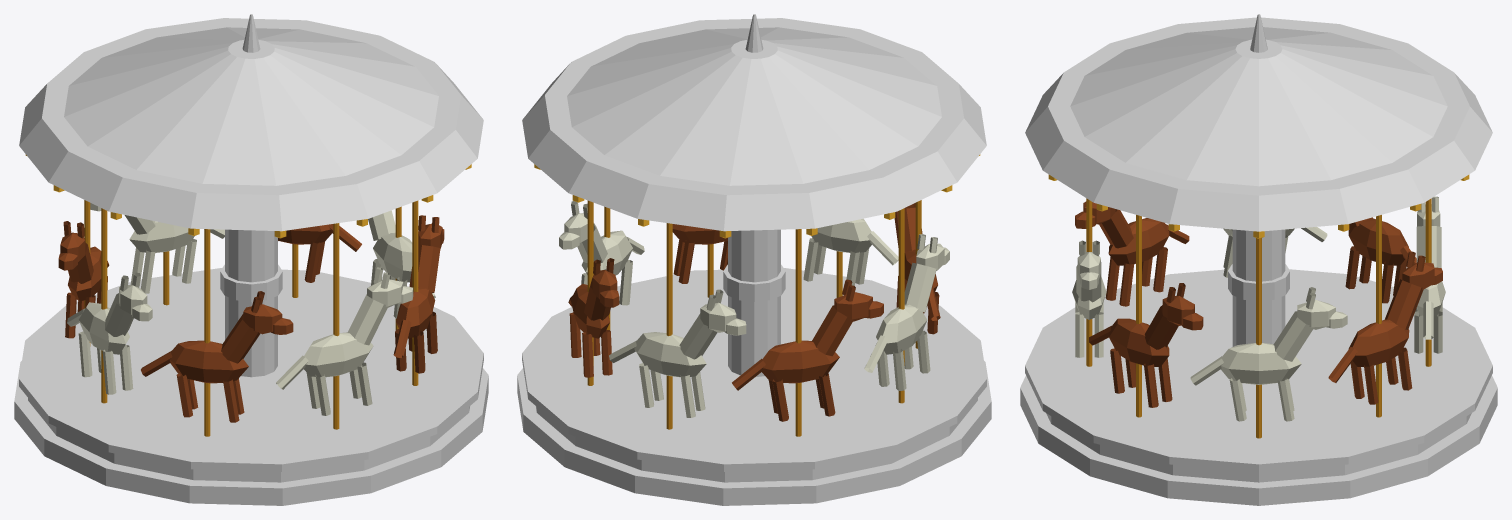
File: LowPolyMerryGoRound.dae
3 views of the same model, side by side, from view 1: azimuth 30°, elevation 25°; view 2: azimuth 150°, elevation 25°; view 3: azimuth 270°, elevation 25° (orthographic).
Visible parts, largest first — view 1: Carousel_Body, Horse_06, Horse_07, Horse_05, Horse_08, Horse_03, Horse_04, Horse_01, Horse_02, Horse_Pole_06, Horse_Pole_07, Horse_Pole_05 (+1 smaller); view 2: Carousel_Body, Horse_04, Horse_03, Horse_05, Horse_02, Horse_07, Horse_01, Horse_08, Horse_06, Horse_Pole_04, Horse_Pole_03, Horse_Pole_05 (+1 smaller); view 3: Carousel_Body, Horse_01, Horse_02, Horse_08, Horse_06, Horse_04, Horse_03, Horse_07, Horse_Pole_08, Horse_Pole_01, Horse_Pole_02, Horse_Pole_07 (+2 smaller).
Boxes of the visible parts, x1,y1,x2,y2 form: Carousel_Body: (14,14,488,505); Horse_06: (141,291,293,422); Horse_07: (276,267,413,415); Horse_05: (67,272,152,394); Horse_08: (393,215,444,373); Horse_03: (90,203,224,293); Horse_04: (58,221,109,338); Horse_01: (368,210,435,318); Horse_02: (278,224,361,282); Horse_Pole_06: (204,229,210,436); Horse_Pole_07: (333,223,339,429); Horse_Pole_05: (101,208,107,403); Carousel_Body: (517,14,991,505); Horse_04: (732,279,883,421); Horse_03: (609,289,746,417); Horse_05: (864,234,949,390); Horse_02: (568,258,619,377); Horse_07: (803,218,898,285); Horse_01: (559,201,644,305); Horse_08: (672,224,727,283); Horse_06: (894,203,940,334); Horse_Pole_04: (795,229,801,436); Horse_Pole_03: (666,223,672,429); Horse_Pole_05: (898,208,904,403); Carousel_Body: (1020,14,1497,505); Horse_01: (1190,287,1347,421); Horse_02: (1328,251,1442,404); Horse_08: (1089,283,1203,407); Horse_06: (1075,201,1189,306); Horse_04: (1345,217,1416,303); Horse_03: (1414,196,1445,353); Horse_07: (1072,240,1106,357); Horse_Pole_08: (1136,215,1141,417); Horse_Pole_01: (1256,238,1261,438); Horse_Pole_02: (1376,215,1381,417); Horse_Pole_07: (1086,198,1092,366).
Bounding box in the file's own units: 6.9 × 6.22 × 6.9.
